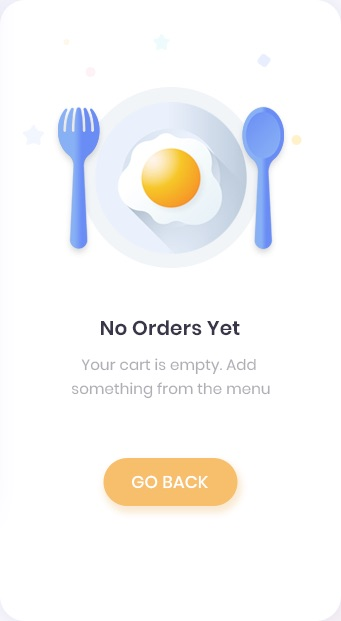Image: (24, 36, 302, 269)
Text: (72, 358, 271, 399), (101, 320, 241, 336)
TextButton: (104, 458, 238, 506)
